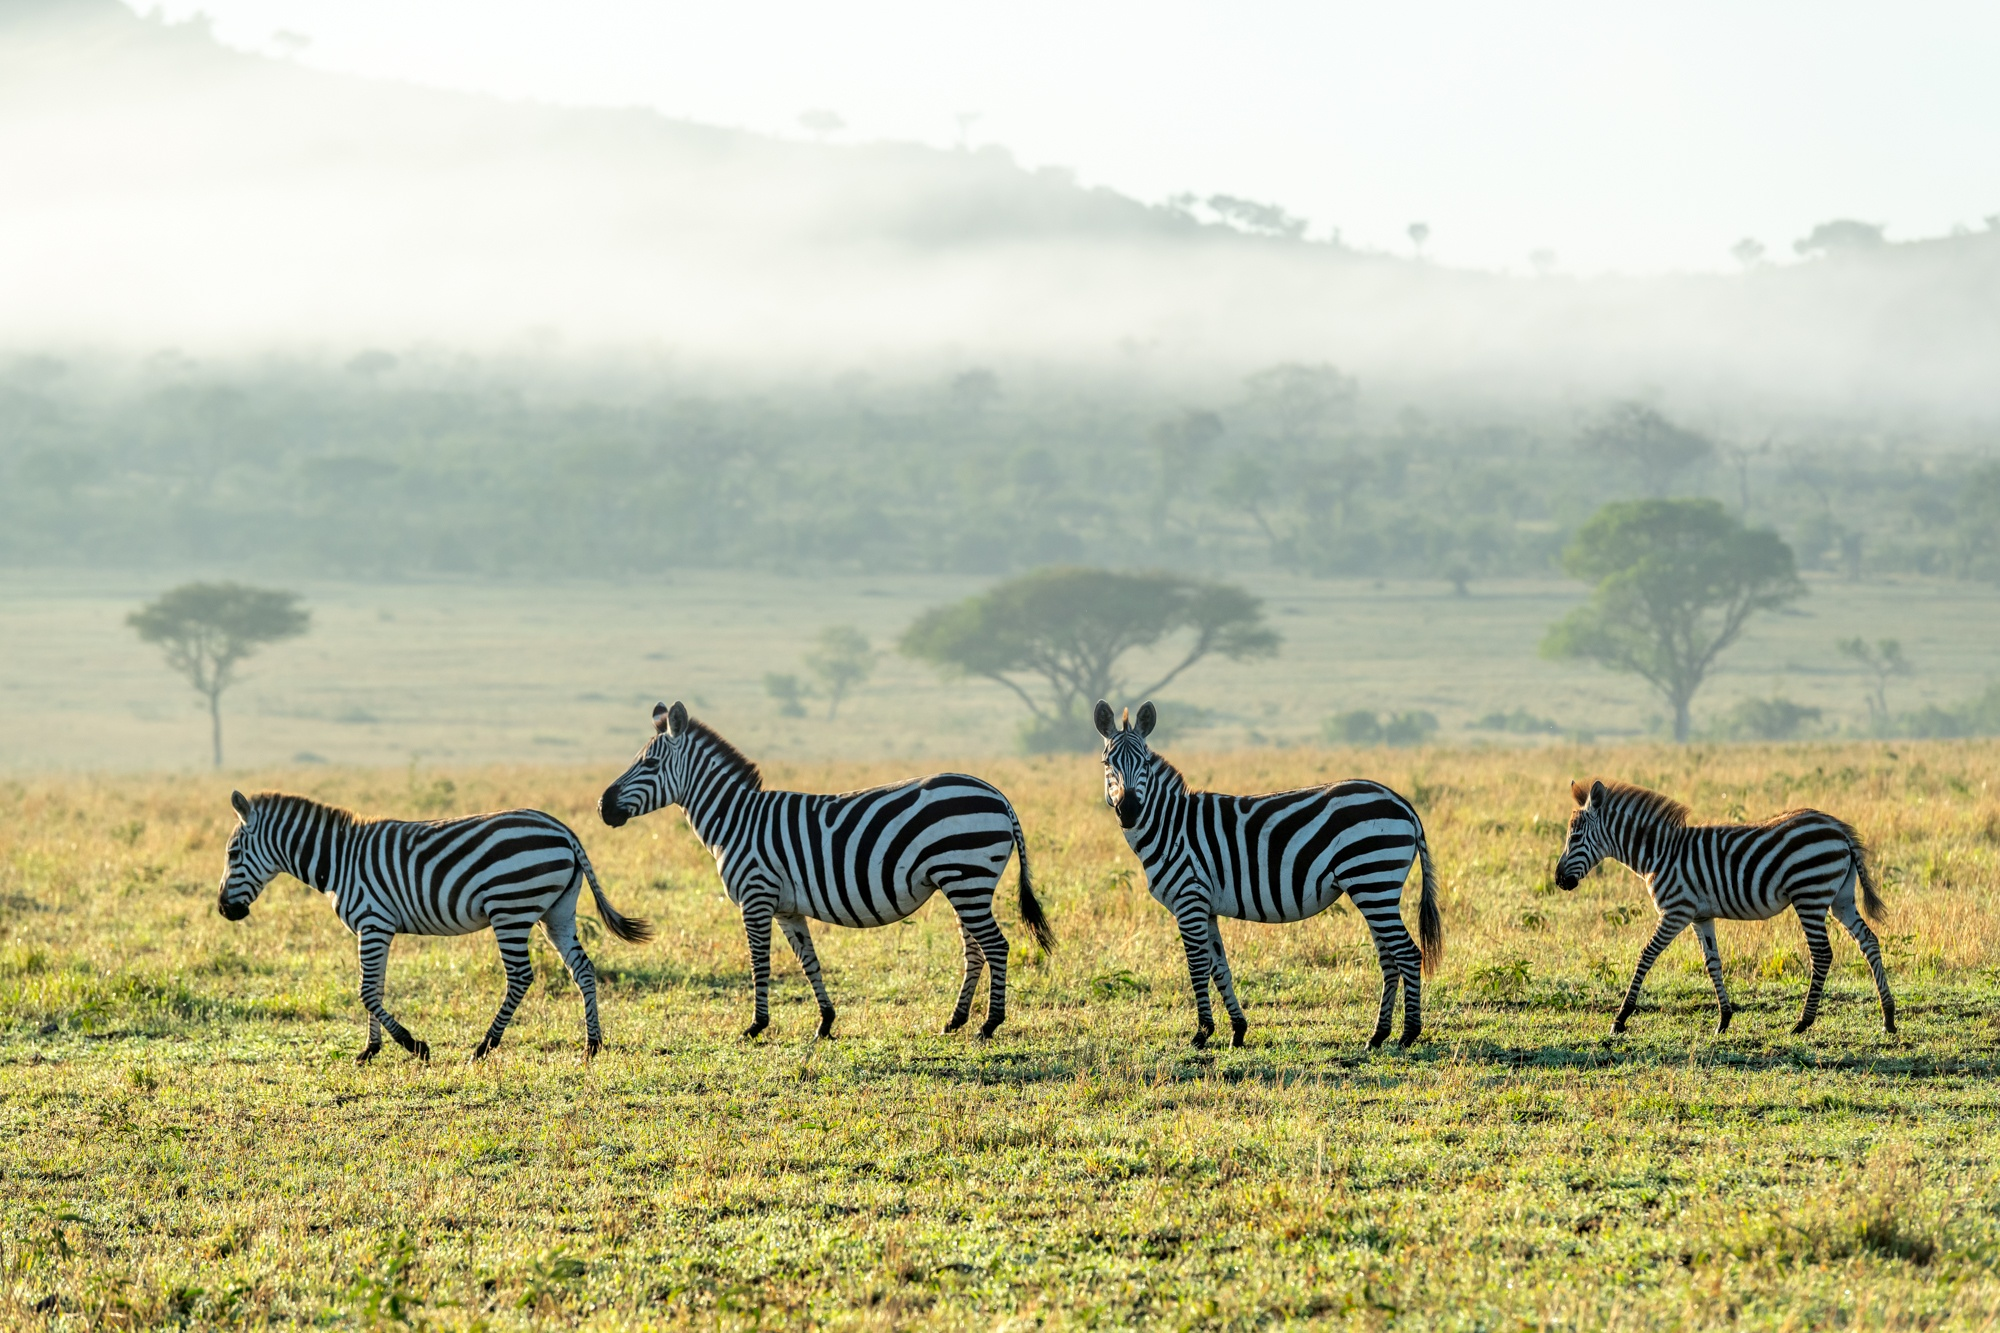zebra: (816, 872, 1257, 1226), (1268, 878, 1633, 1236), (422, 927, 822, 1218), (1728, 916, 2000, 1207)
